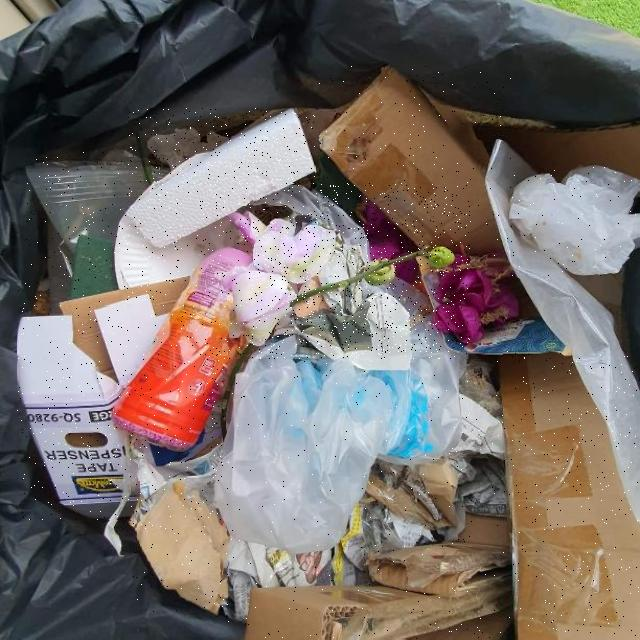paper: (224, 360, 511, 623), (17, 273, 191, 520), (503, 351, 640, 639), (320, 65, 511, 264), (245, 582, 514, 639), (133, 482, 229, 615), (113, 210, 238, 290), (372, 542, 516, 597)
plastic: (253, 183, 470, 471), (212, 333, 397, 553), (111, 228, 256, 451), (27, 150, 149, 306), (508, 168, 639, 278), (221, 550, 241, 621)
styrofoam: (129, 109, 315, 247)
